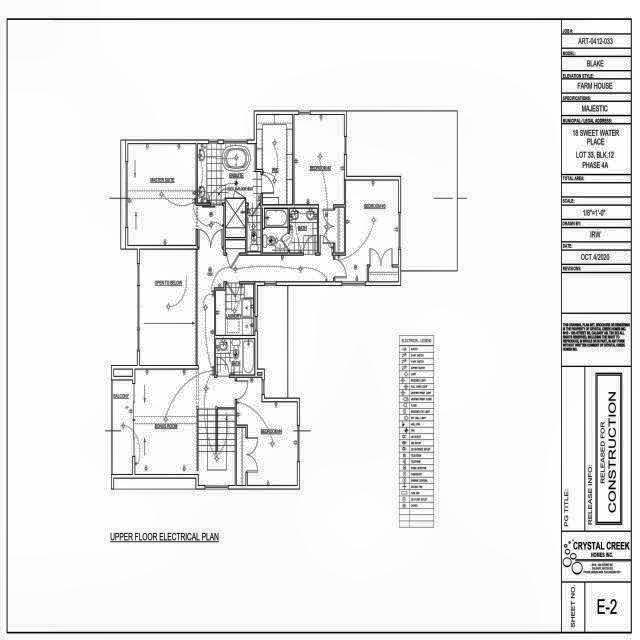room: (294, 115, 344, 253), (135, 369, 197, 474), (335, 180, 398, 282), (237, 378, 297, 485), (198, 144, 261, 203), (257, 115, 292, 205), (216, 284, 255, 335), (216, 339, 255, 375), (290, 208, 317, 253), (263, 208, 288, 253), (198, 206, 224, 247), (247, 206, 261, 251), (237, 428, 246, 485), (369, 267, 398, 282), (335, 207, 344, 253)
